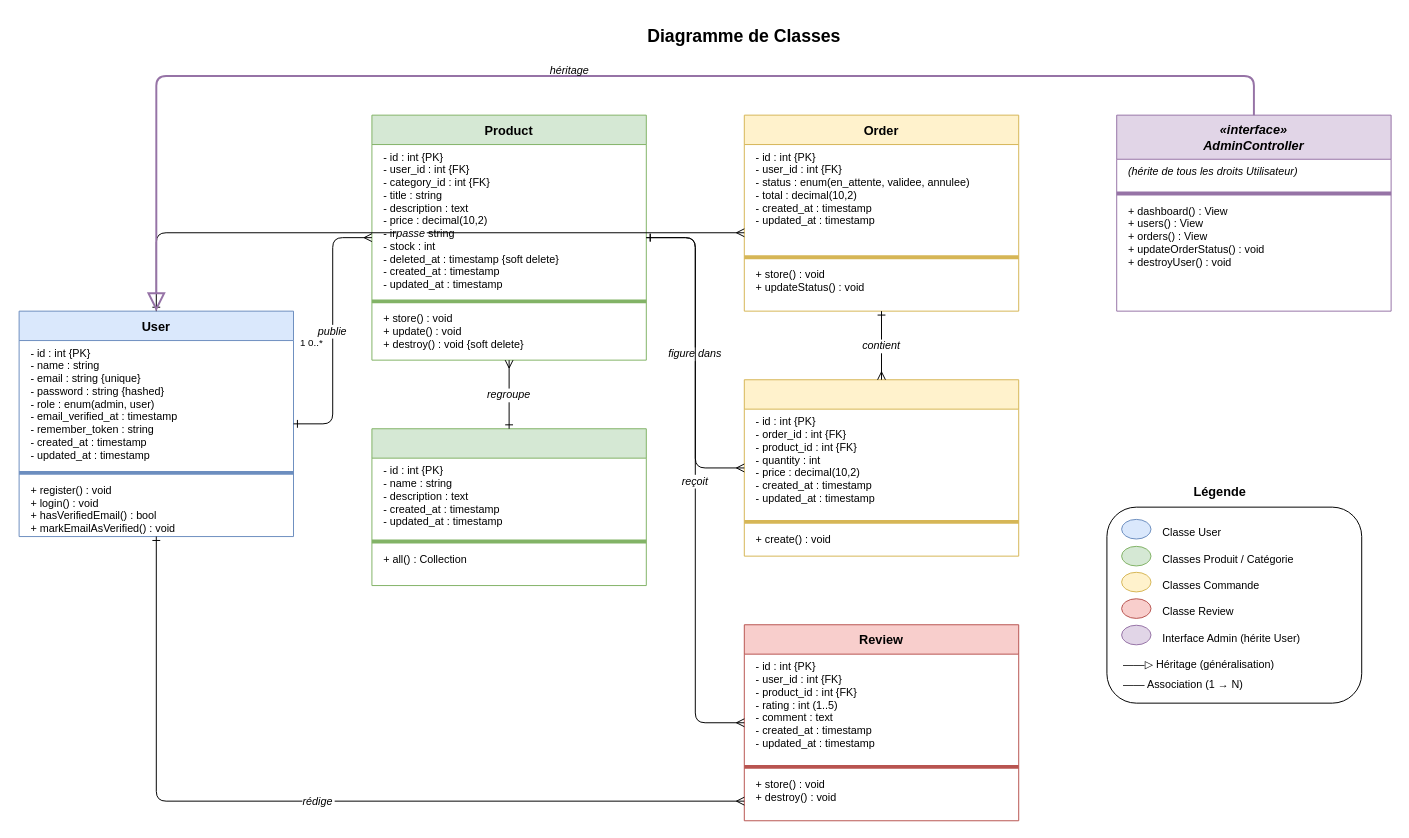
Image size: 1409x838. Some labels were removed from this diagram. The shapes that lost their labels are listed below. From the top down, each one's box as (x1, y1, x2, y2) in pixels, then its label:
(743, 379, 1019, 556): OrderItem
(371, 428, 646, 586): Category
